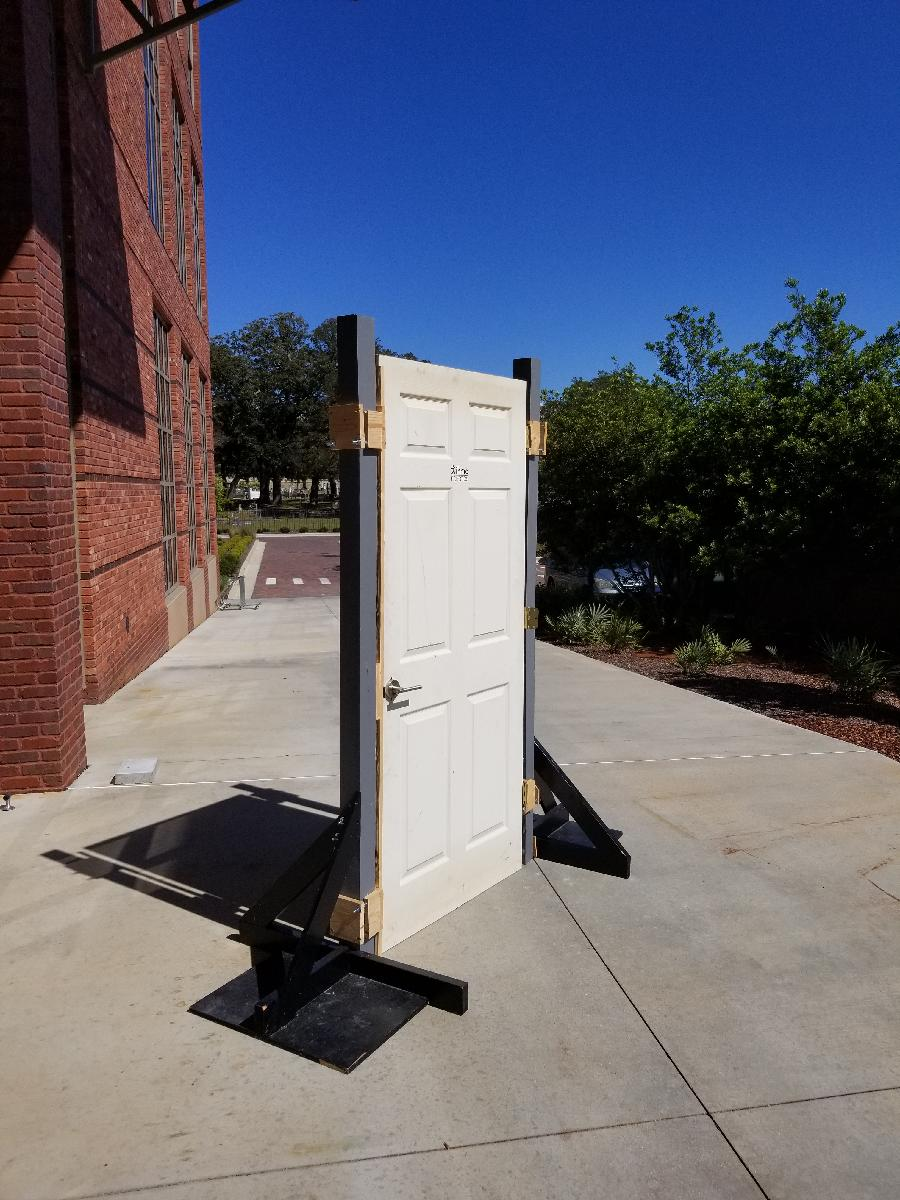door: (373, 350, 532, 962)
doorHandle: (385, 670, 429, 707)
